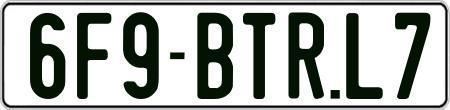6: (29, 12, 66, 102)
7: (393, 12, 430, 103)
9: (120, 11, 161, 103)
B: (196, 10, 238, 99)
F: (77, 13, 111, 103)
L: (343, 11, 381, 99)
R: (286, 12, 322, 99)
T: (240, 10, 274, 101)
